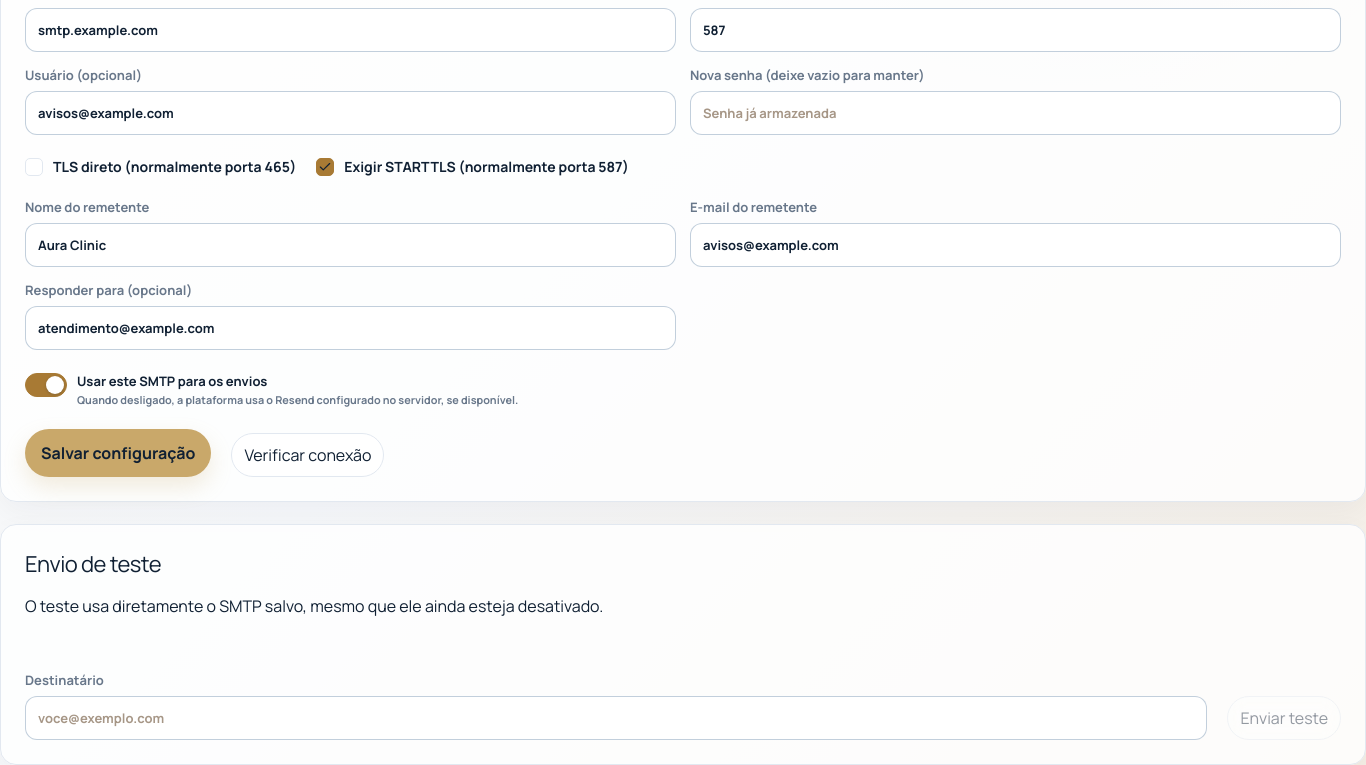
Test: configuração SMTP da plataforma › permite verificar a conexão salva sem habilitar envio de teste externo no carregamento
This screenshot has width=1366, height=765.
(page scrolled)
Click the button "Verificar conexão": (308, 455) x1=232 y1=433 x2=384 y2=477
(page scrolled)
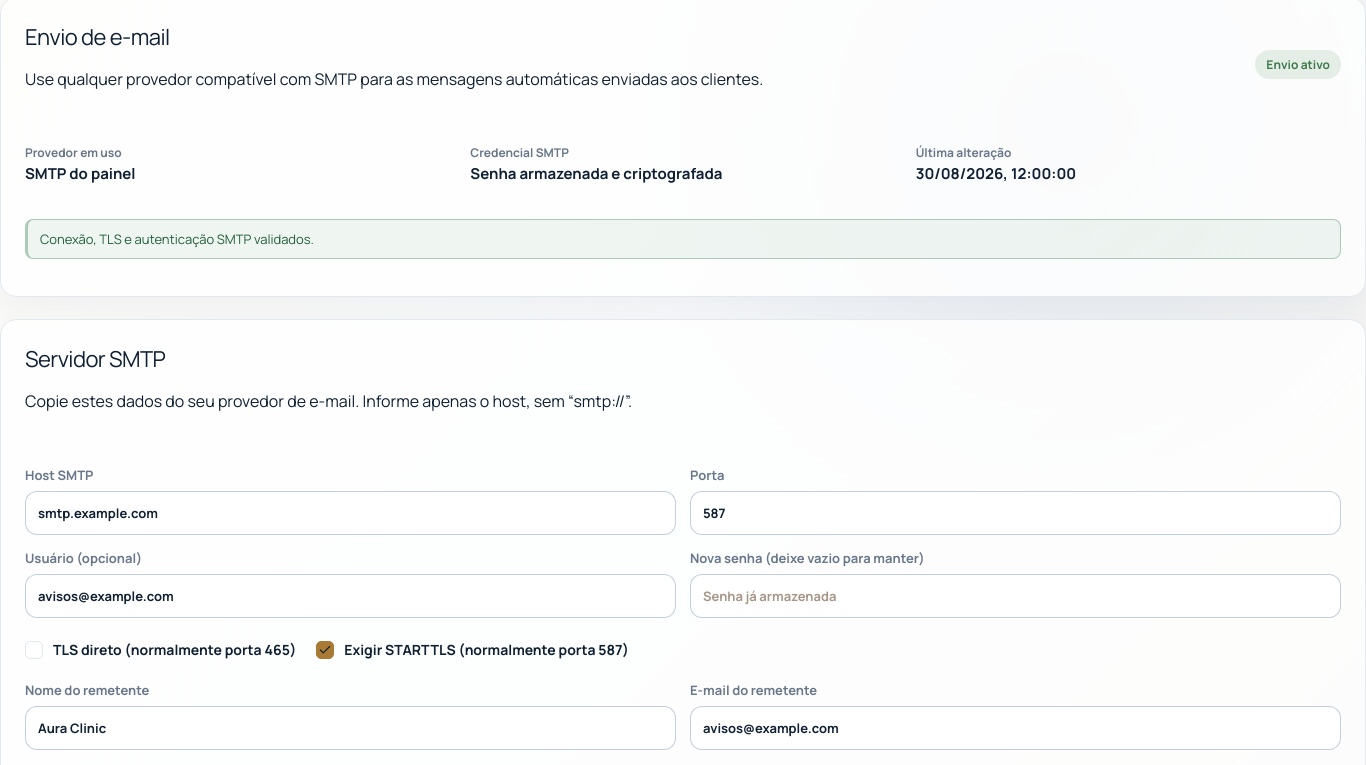
Result: the text "Conexão, TLS e autenticação SMTP validados." is shown at x1=25 y1=219 x2=1341 y2=259
